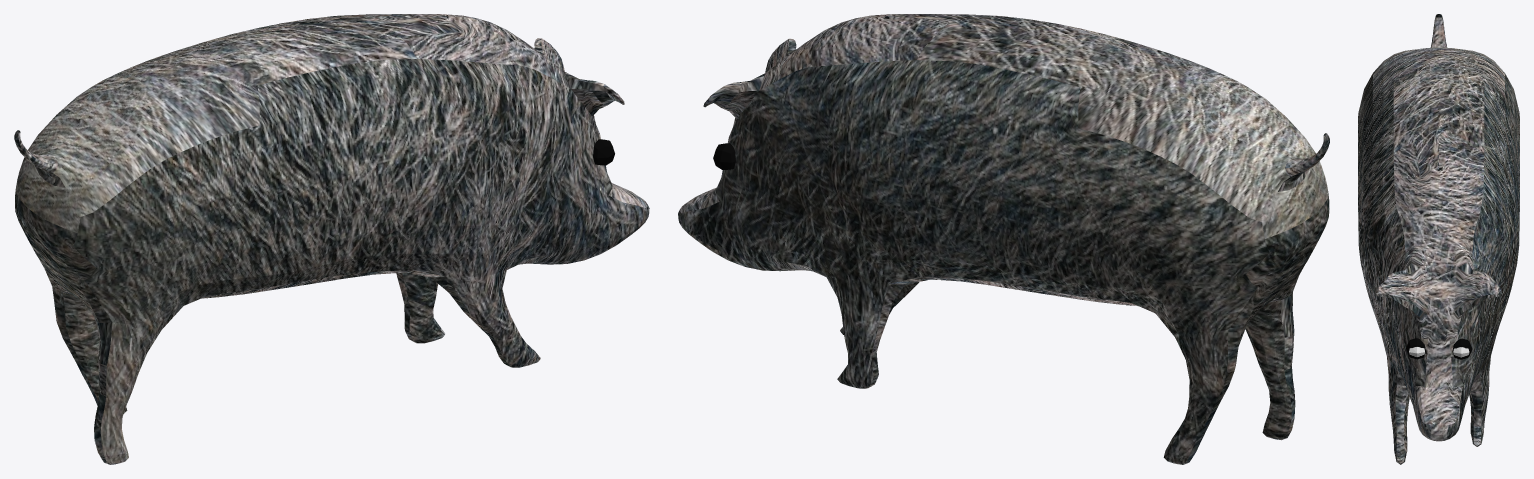
The model's file is pig.obj.
3 renders of one model, left to right at view 1: azimuth 30°, elevation 25°; view 2: azimuth 150°, elevation 25°; view 3: azimuth 270°, elevation 25°, orthographic. The views are drawn at different scales.
Visible parts, largest first — view 1: Plane; view 2: Plane; view 3: Plane.
Part boxes in pixels (box(x1,y1,x2,y2)): Plane: box(14, 14, 649, 464); Plane: box(678, 14, 1329, 464); Plane: box(1358, 14, 1519, 464).
Size of the model in its own units: 1.71 by 0.9541 by 0.4859.
Materials: 2 (2 with a texture image).
